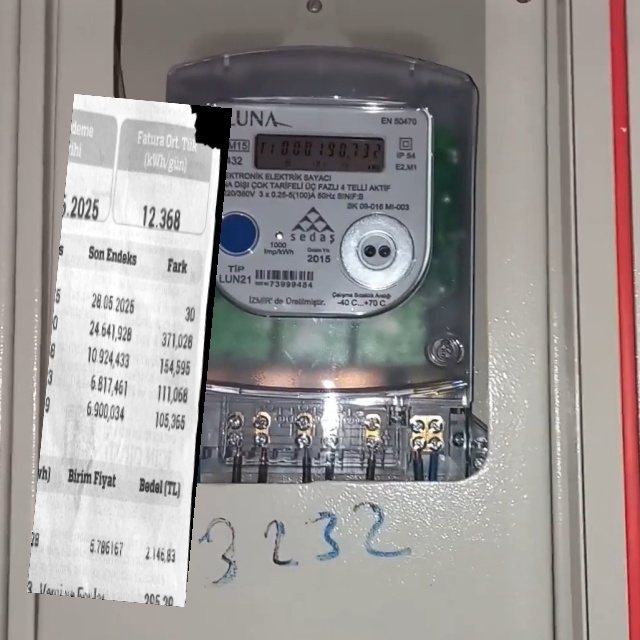electricity-bill: (27, 94, 232, 606)
